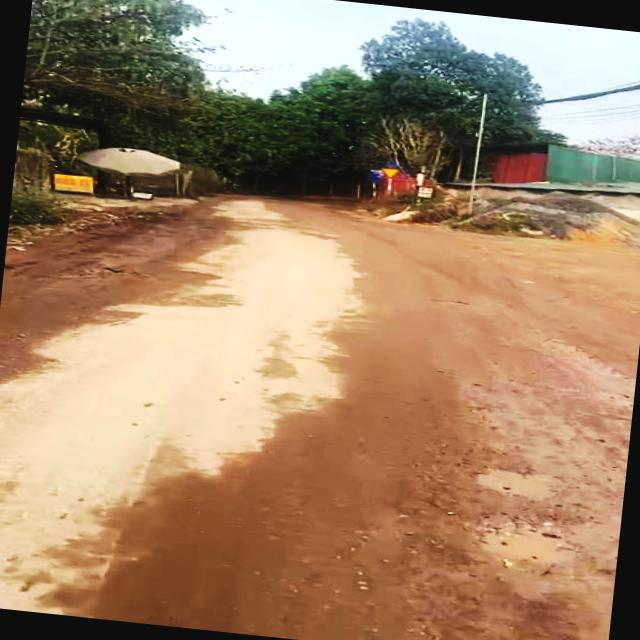pothole: (436, 445, 590, 582)
